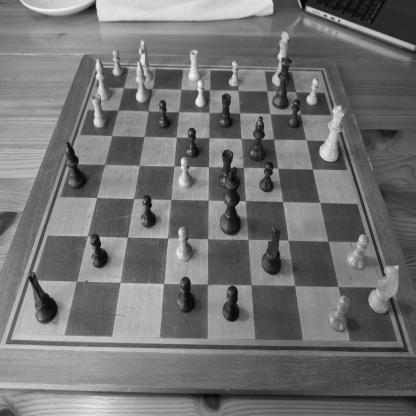black-bishop: (65, 141, 86, 190), (248, 115, 266, 162)
black-king: (219, 166, 241, 236)
black-knight: (27, 270, 58, 324), (261, 225, 282, 276)
black-pawn: (177, 276, 196, 314), (222, 284, 240, 323), (90, 233, 108, 269), (141, 194, 156, 229), (259, 161, 274, 193), (185, 127, 199, 159), (286, 98, 300, 129), (156, 100, 170, 130)
black-queen: (272, 56, 292, 110)
black-rook: (218, 149, 234, 190), (218, 92, 232, 130)
white-bishop: (95, 58, 112, 101), (135, 62, 150, 104)
white-king: (271, 30, 291, 88)
white-knight: (368, 264, 400, 316), (138, 38, 154, 83)
white-pawn: (328, 294, 350, 334), (347, 233, 370, 271), (176, 226, 193, 262), (178, 156, 193, 189), (306, 76, 319, 106), (228, 60, 241, 88), (112, 48, 124, 77), (195, 79, 207, 108)
white-queen: (319, 105, 346, 164)
white-rook: (90, 92, 108, 129), (188, 50, 202, 82)
